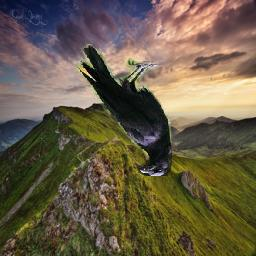Crow: (76, 44, 172, 176)
